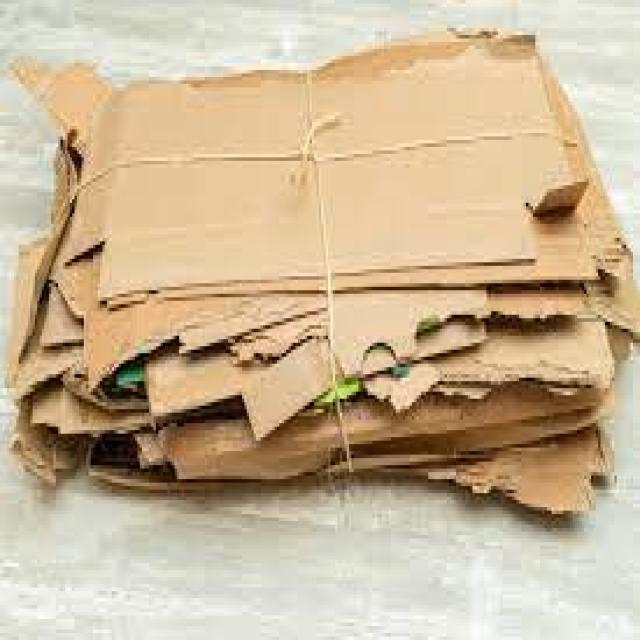Vidrio: (118, 84, 554, 286)
